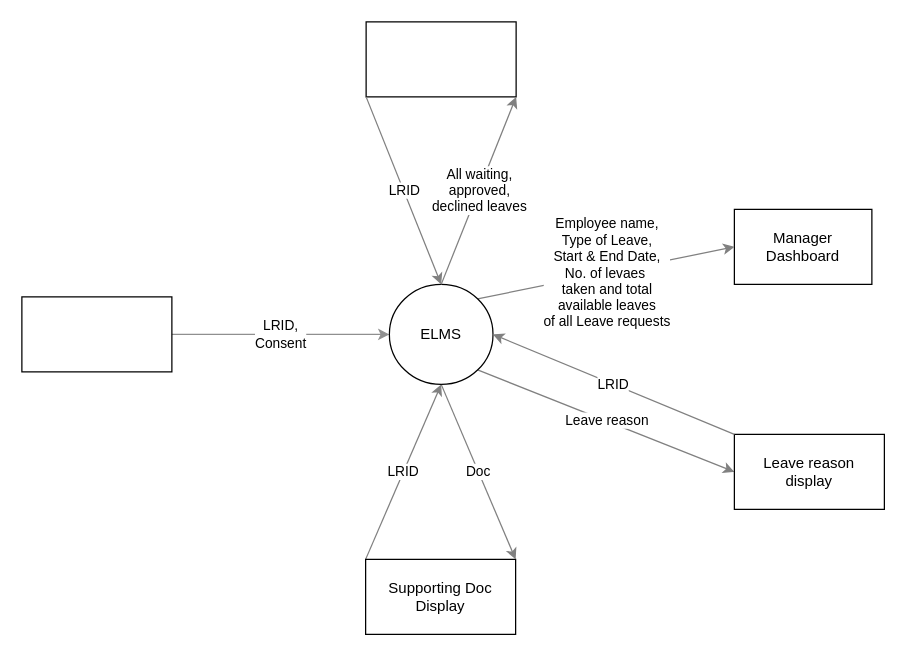
The diagram is 906 pixels wide and 656 high, and some of its shapes have lost their labels. The centre of each missing label's shape, as x and y in pixels:
"Employee Leave History" belongs at point (440, 59).
"Employee Leave Request" belongs at point (96, 334).
